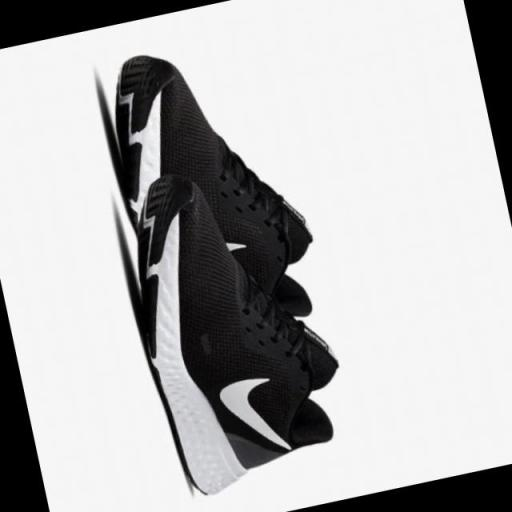Nike: (210, 364, 291, 466)
